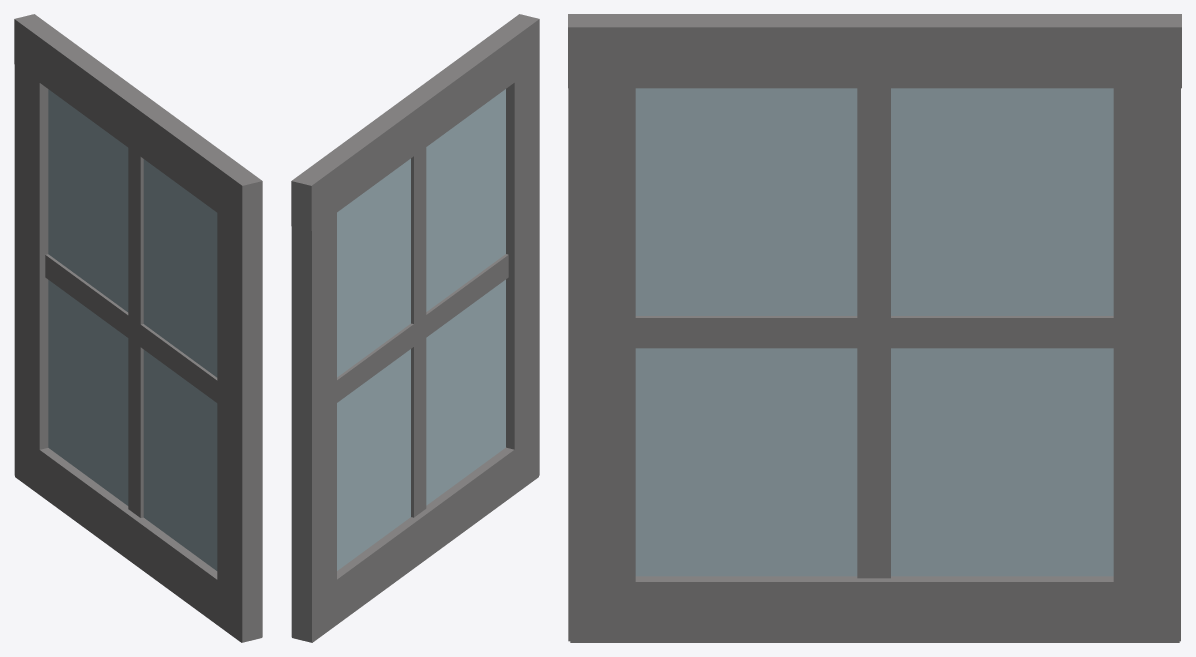
File: window.fbx
3 renders of one model, left to right at view 1: azimuth 30°, elevation 25°; view 2: azimuth 150°, elevation 25°; view 3: azimuth 270°, elevation 25°, orthographic. The views are drawn at different scales.
Parts seen in each view (by area): view 1: Cube.003, Cube.006; view 2: Cube.003, Cube.006; view 3: Cube.006, Cube.003.
Part boxes in pixels (x1,y1,x2,y2): Cube.003: [14, 14, 262, 642]; Cube.006: [48, 89, 217, 570]; Cube.003: [291, 14, 539, 642]; Cube.006: [337, 89, 505, 570]; Cube.006: [635, 88, 1113, 576]; Cube.003: [568, 14, 1181, 642].
Bounding box in the file's own units: 14 × 303 × 274.
